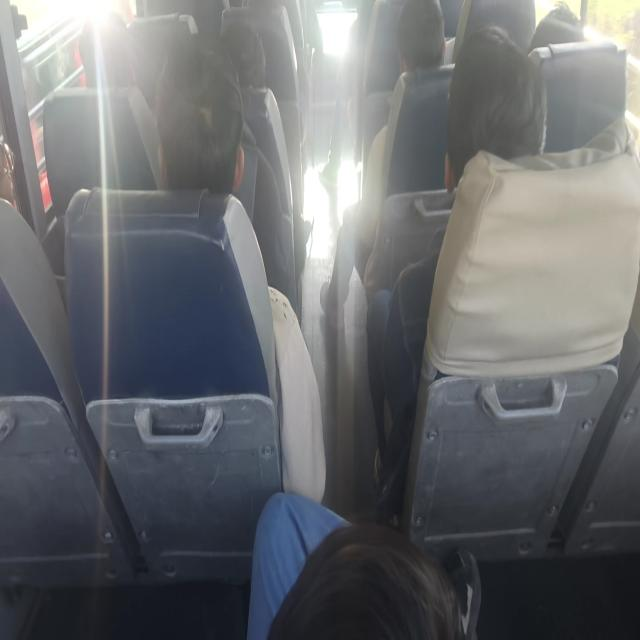person: (275, 503, 467, 640), (146, 48, 246, 224), (439, 39, 544, 187), (72, 1, 136, 94), (204, 14, 269, 99), (383, 0, 437, 87), (0, 109, 30, 222), (532, 8, 594, 58)
